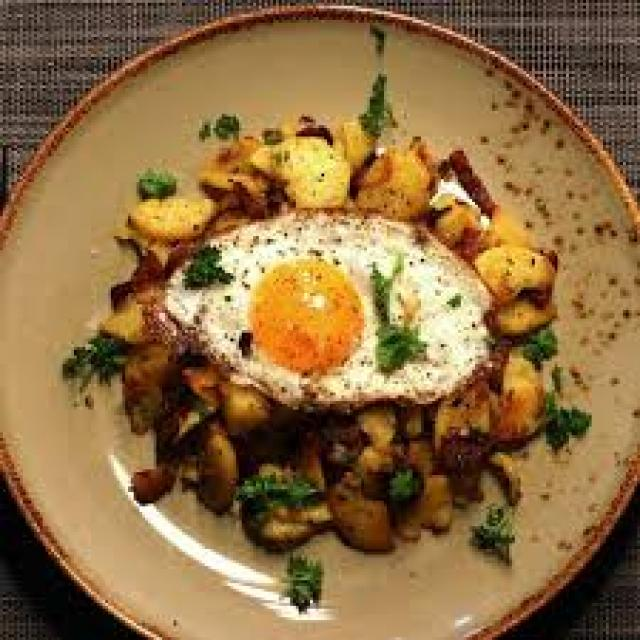organic waste: (94, 111, 546, 549), (154, 204, 484, 410), (60, 336, 125, 395), (540, 392, 589, 450), (466, 500, 515, 558), (282, 549, 324, 603), (358, 71, 390, 128), (196, 108, 239, 134), (136, 168, 174, 190)
